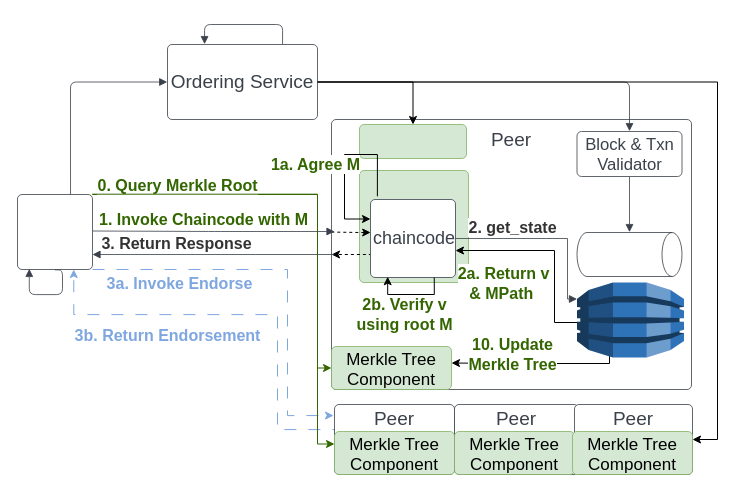
Some shapes in this 743 by 492 pixel diagram are drawn without their labels. Each missing label, with the box of its shape:
Client: (17, 194, 92, 269)
Enclave: (359, 170, 468, 282)
Key Enclave: (359, 124, 466, 158)
Ledger: (576, 232, 682, 276)
world state: (576, 282, 684, 357)
